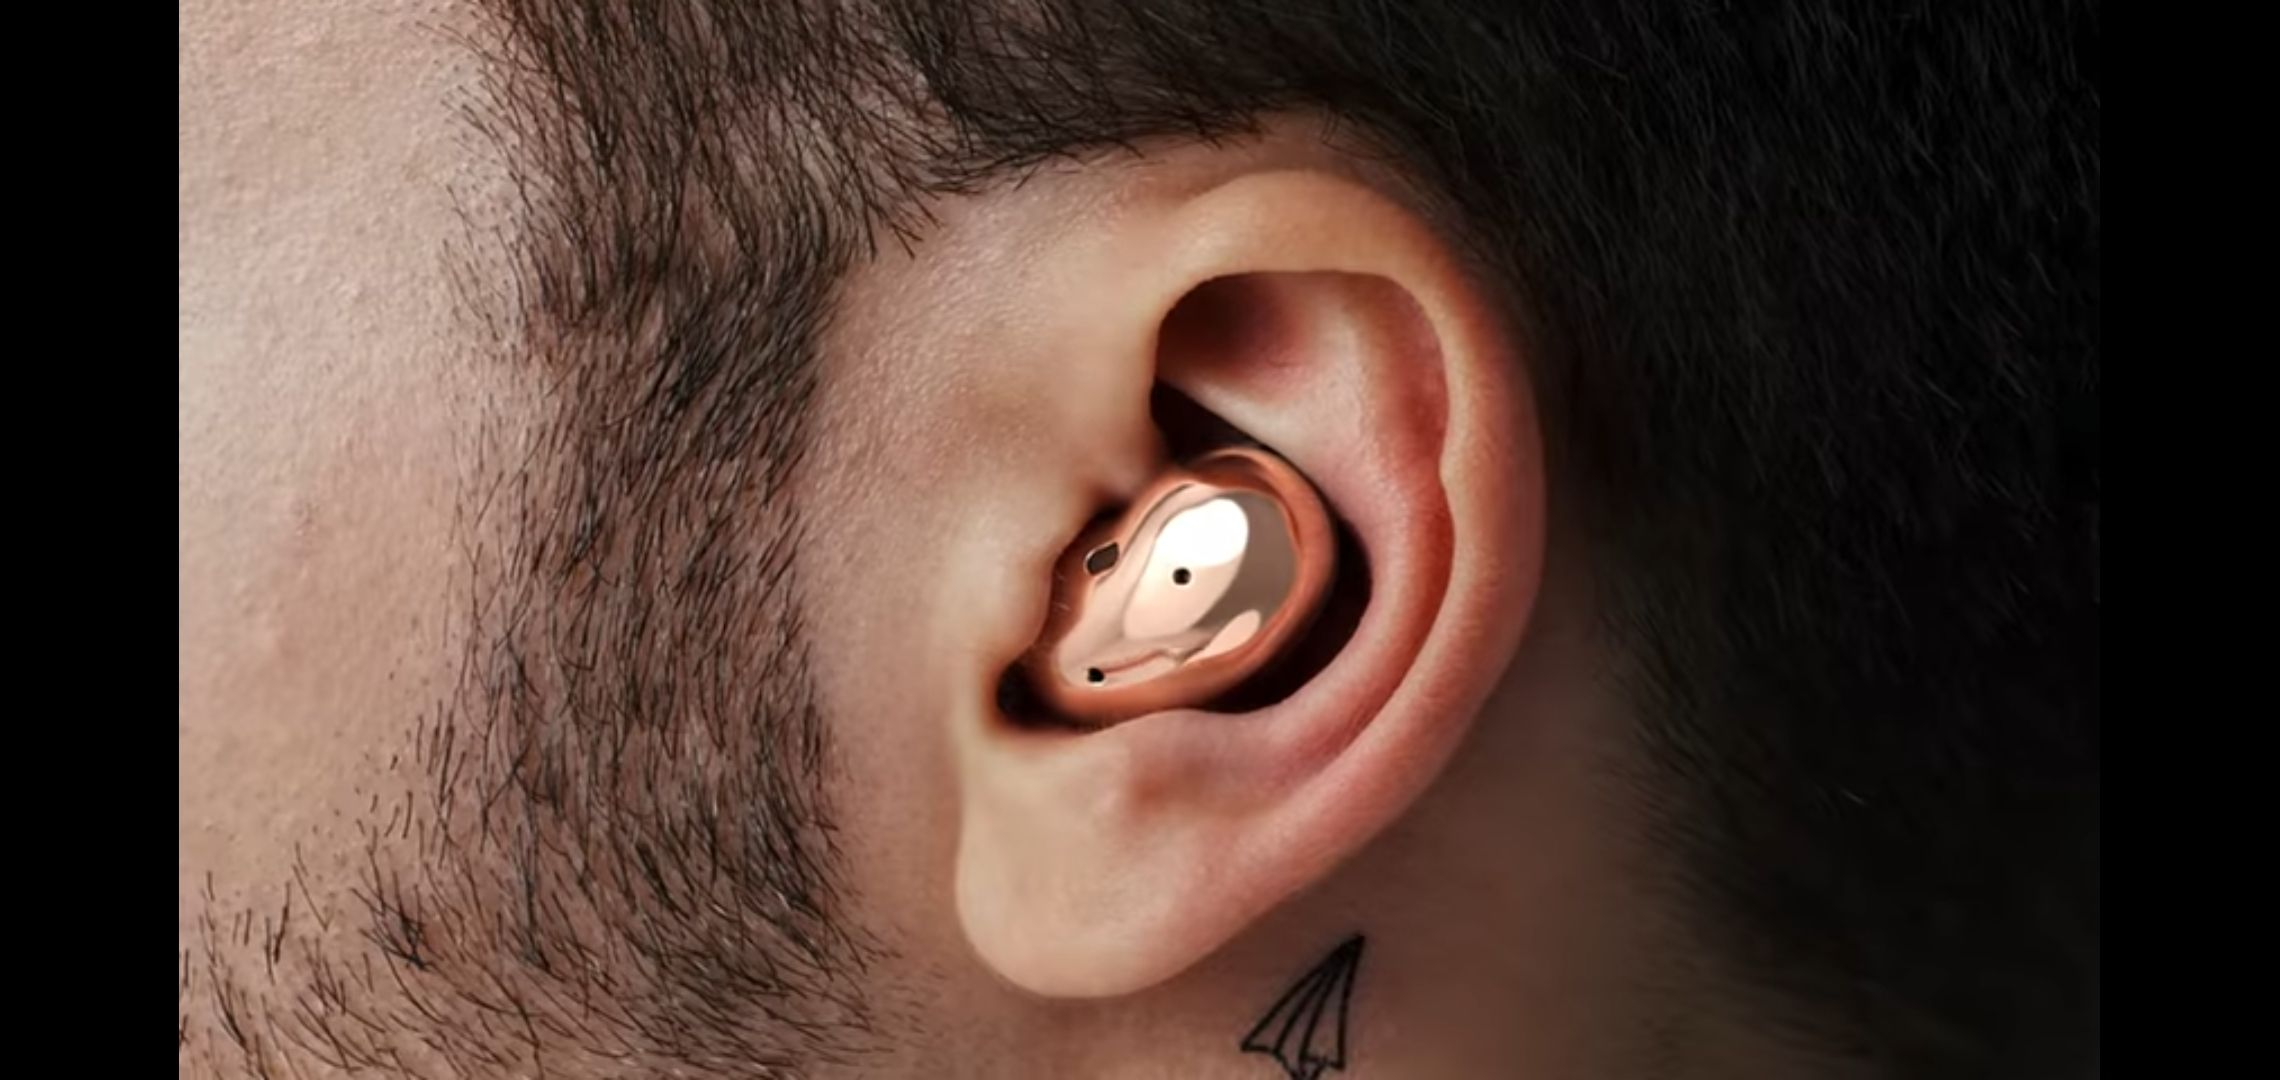earphone: (950, 172, 1547, 1002)
